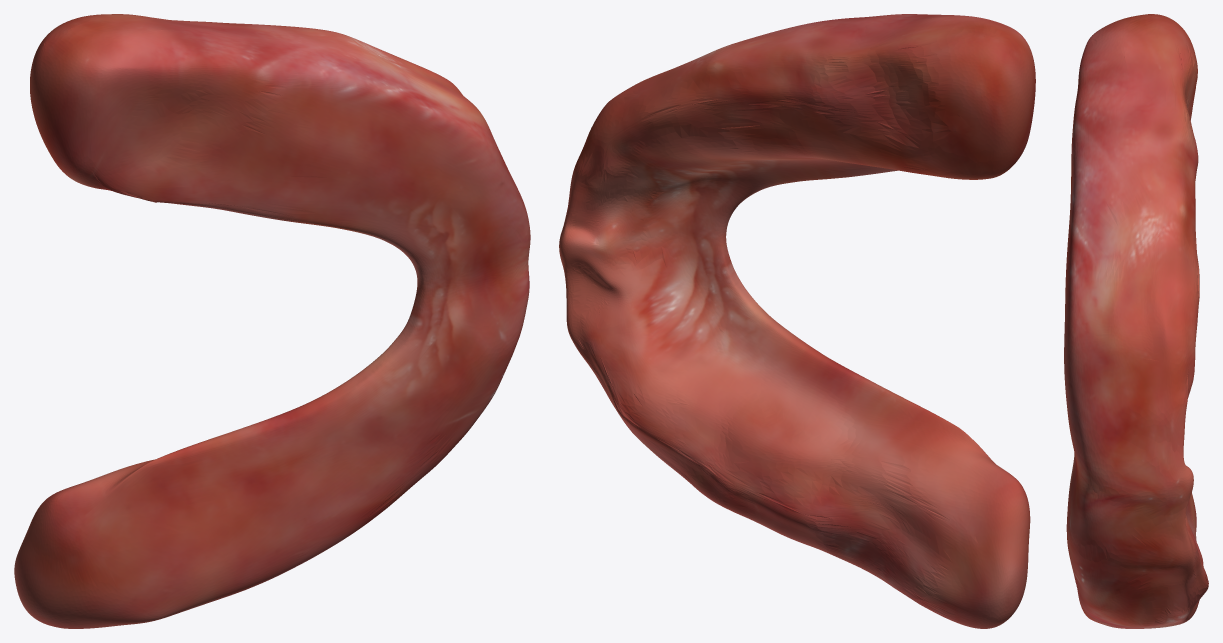
Rendered from MxBone_7780.OBJ.
The picture shows the model from 3 angles, left to right: view 1: azimuth 30°, elevation 25°; view 2: azimuth 150°, elevation 25°; view 3: azimuth 270°, elevation 25°; orthographic projection. The views are drawn at different scales.
Parts seen in each view (by area): view 1: Group48195; view 2: Group48195; view 3: Group48195.
Boxes of the visible parts, x1,y1,x2,y2 form: Group48195: [14, 14, 530, 628]; Group48195: [559, 14, 1035, 628]; Group48195: [1064, 14, 1208, 628].
Size of the model in its own units: 54.04 by 65.69 by 15.58.
Materials: 1 (1 with a texture image).
